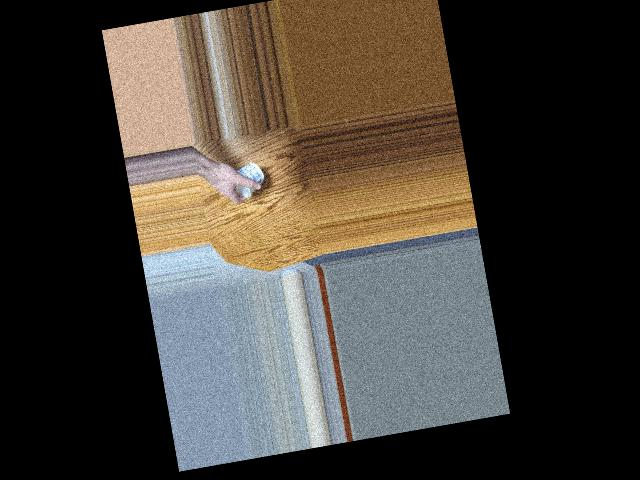cotage: (232, 157, 268, 201)
